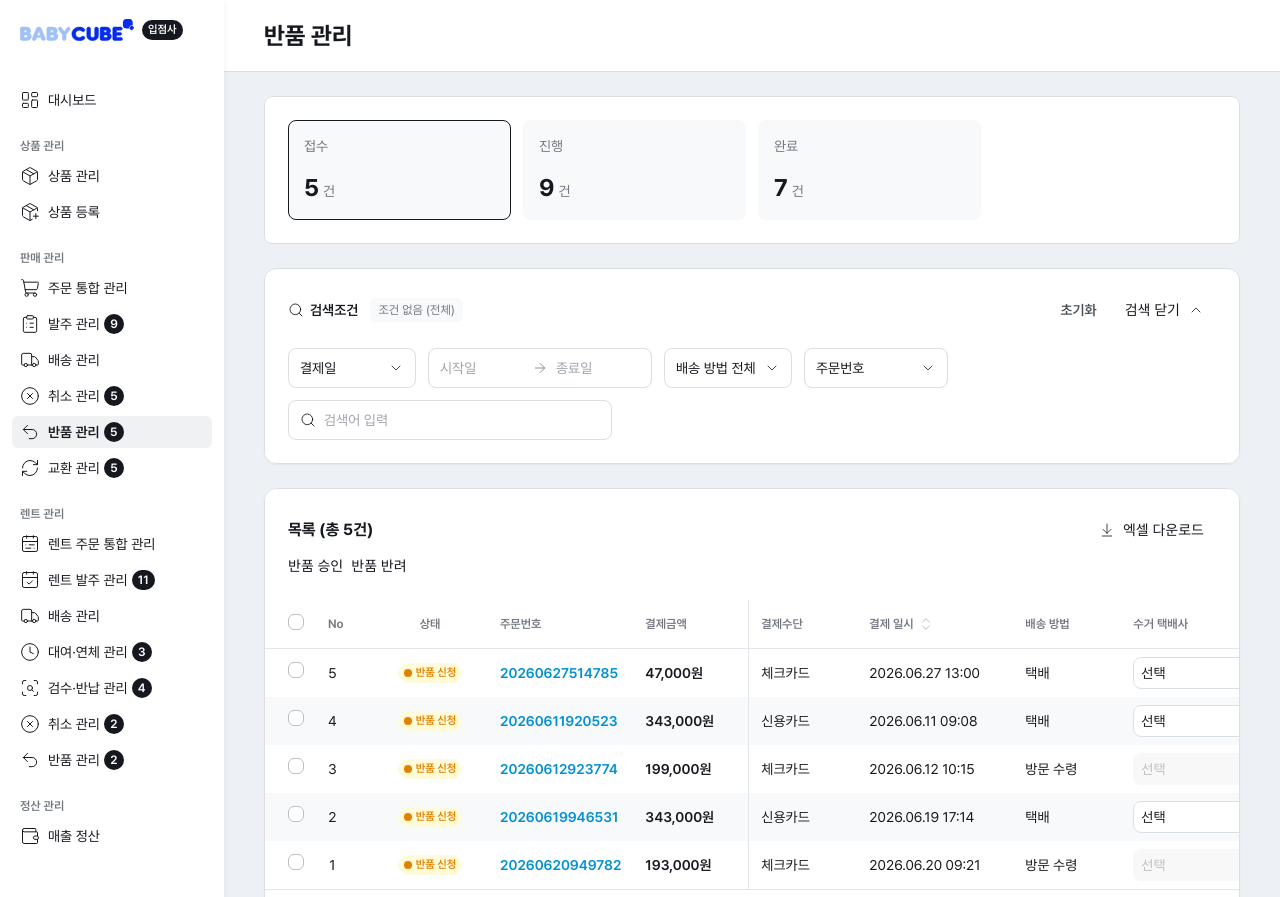
Test case: SaleReturnPage — 반품 관리 › [반품 완료] → 환불 실행 확인 창(제목 「반품 완료 — 환불 실행」 · develop 문구)
Click the button "진행 9 건": (634, 170) [523,120,746,220]
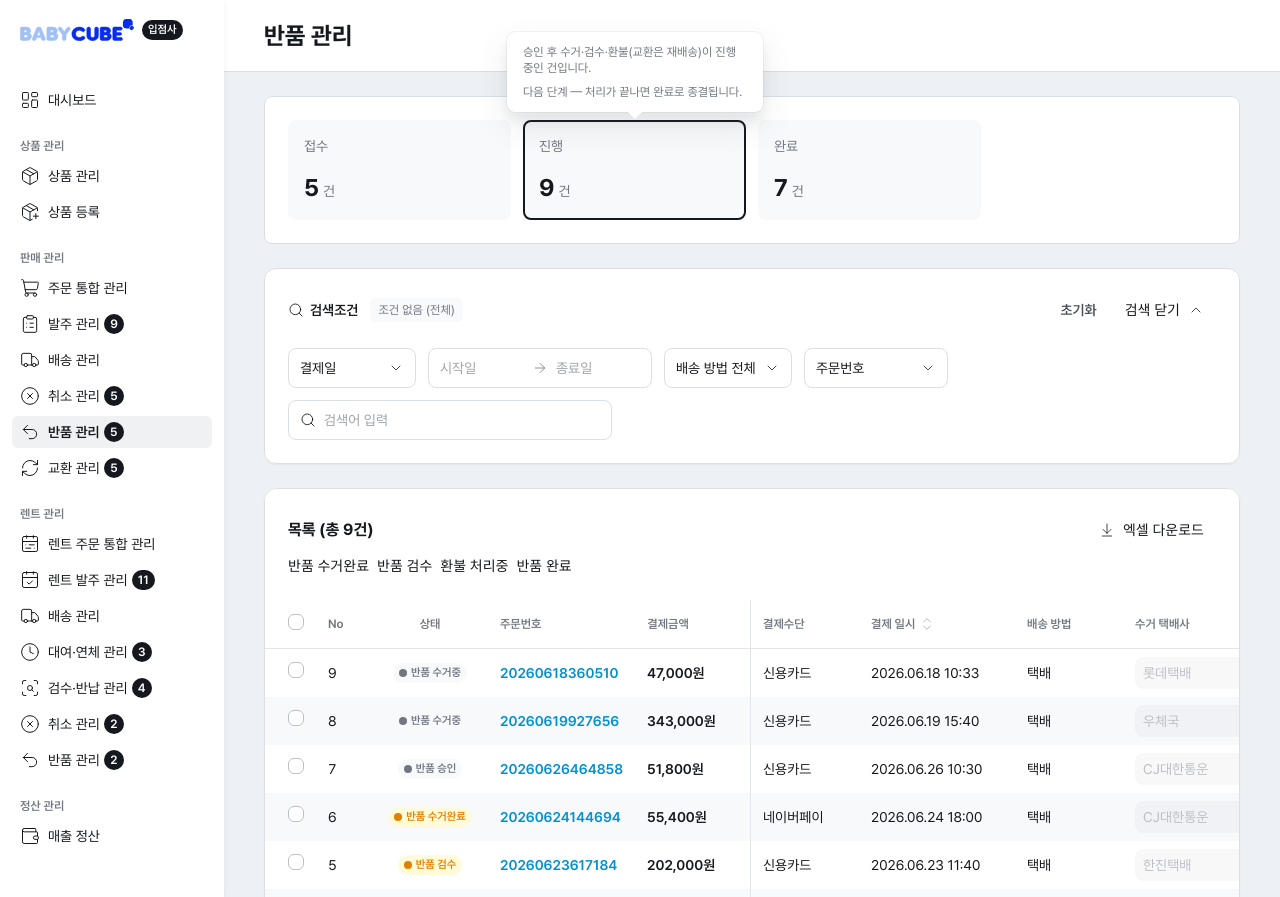
Click the checkbox named "20260618360510 흡착 식판 세트 선택": (296, 670) [288,662,304,678]
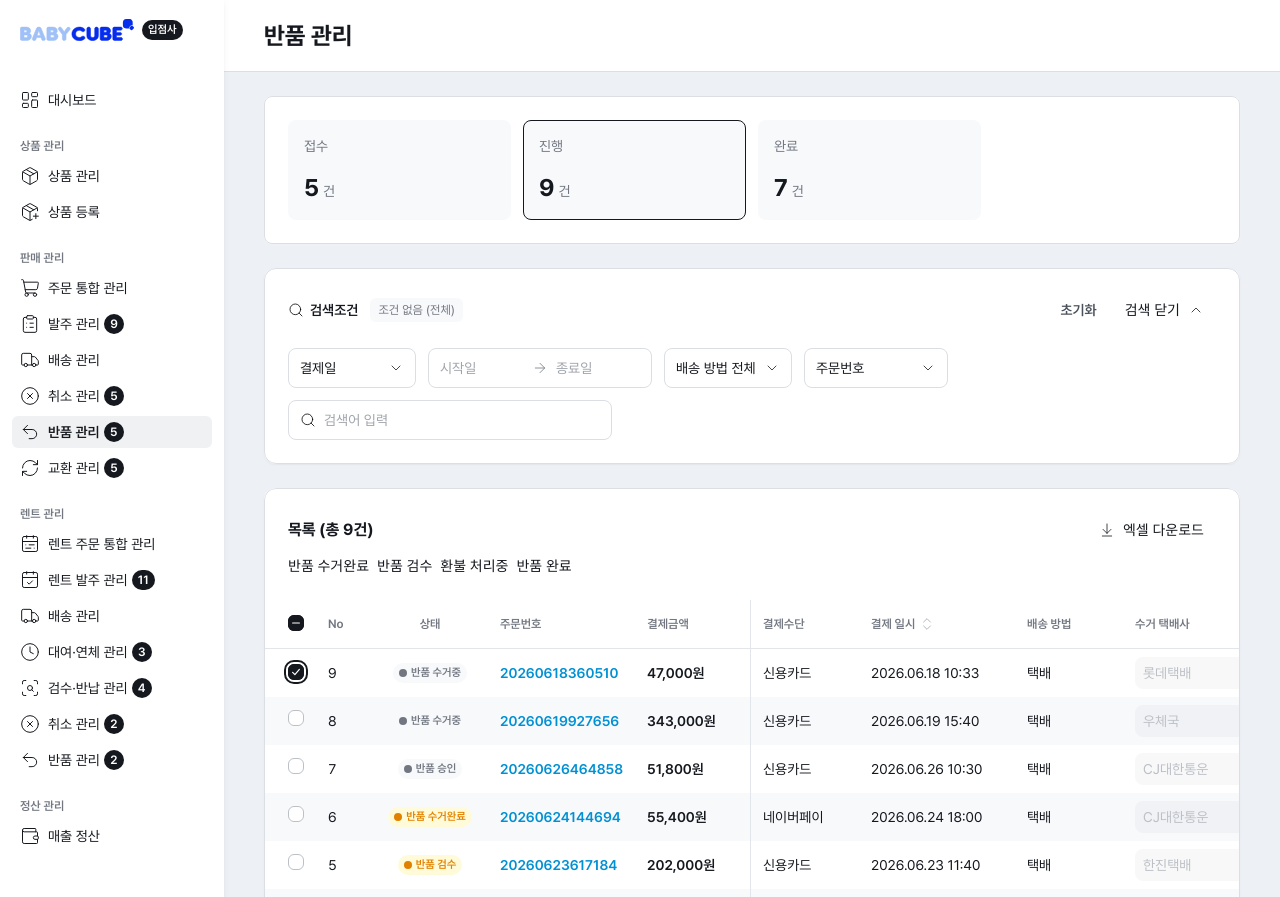
Click the button "반품 완료": (544, 566) [516,556,572,576]
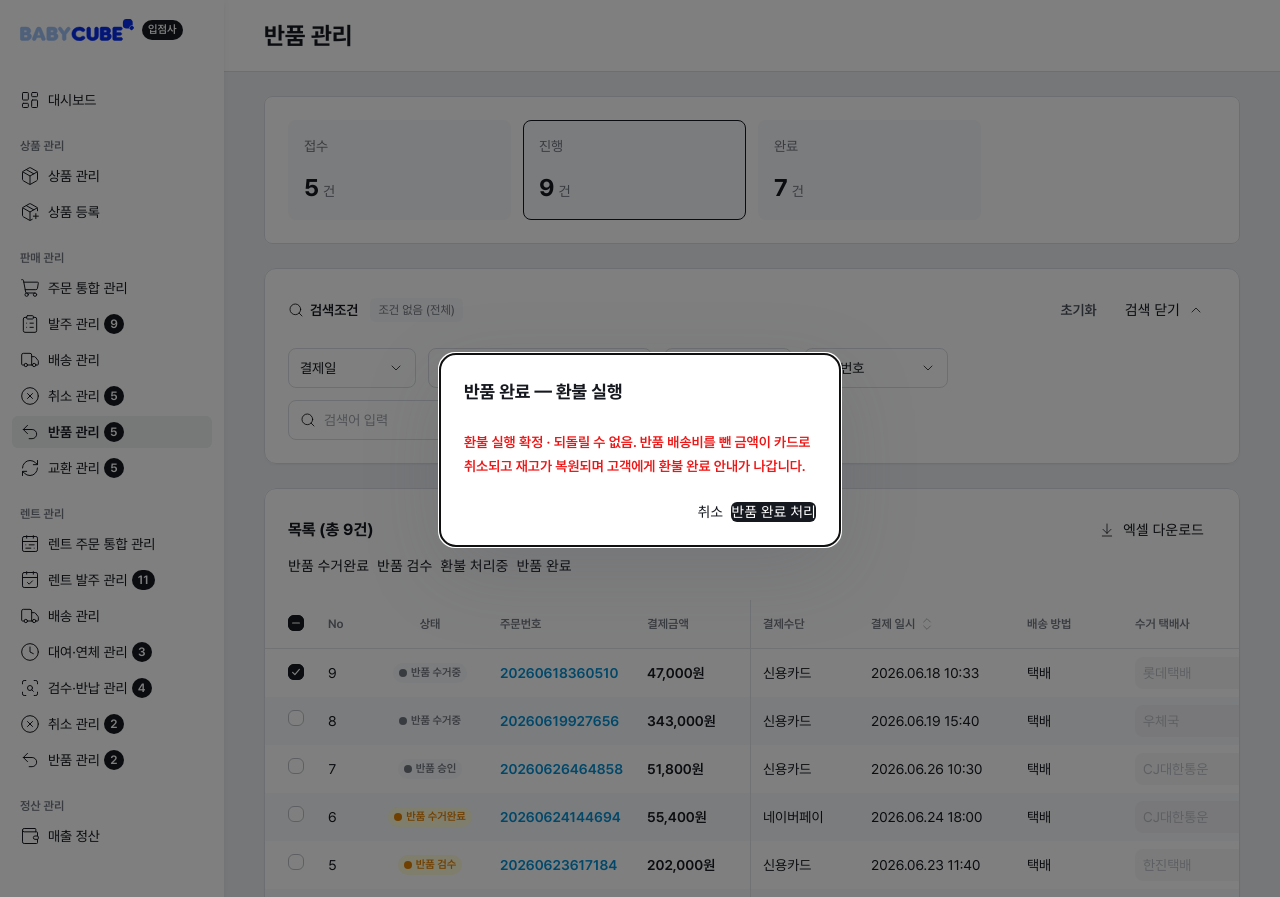
Expected: the text "환불 실행 확정 · 되돌릴 수 없음. 반품 배송비를 뺀 금액이 카드로 취소되고 재고가 복원되며 고객에게 환불 완료 안내가 나갑니다." is shown, [464,430,816,478]
